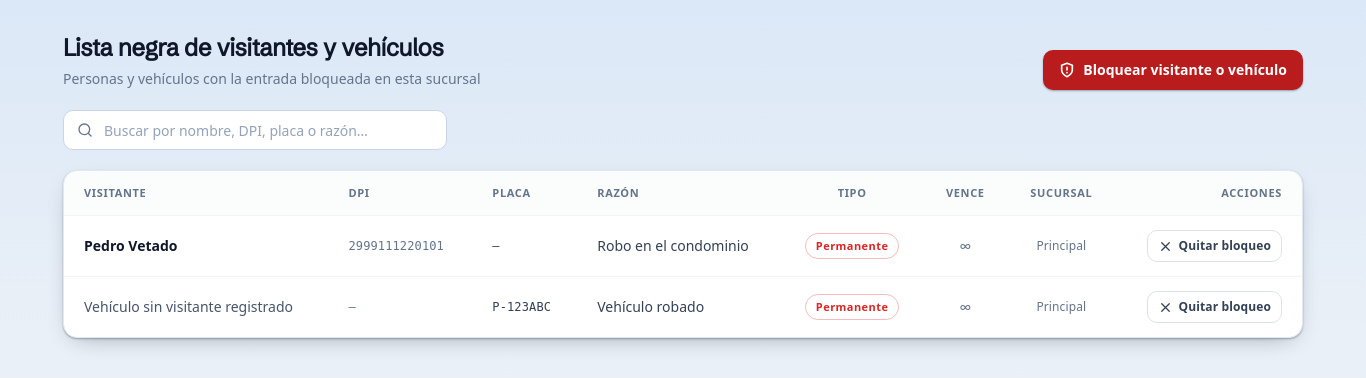
Scenario: BlacklistPage — lista negra por DPI y por placa › el buscador filtra también por placa en cualquier formato
Expected: the text "Pedro Vetado" is shown, [64, 216, 328, 276]
Step 1. Type "p-123 abc" into the field labelled "Buscar" → point(255, 130), box [63, 110, 447, 150]
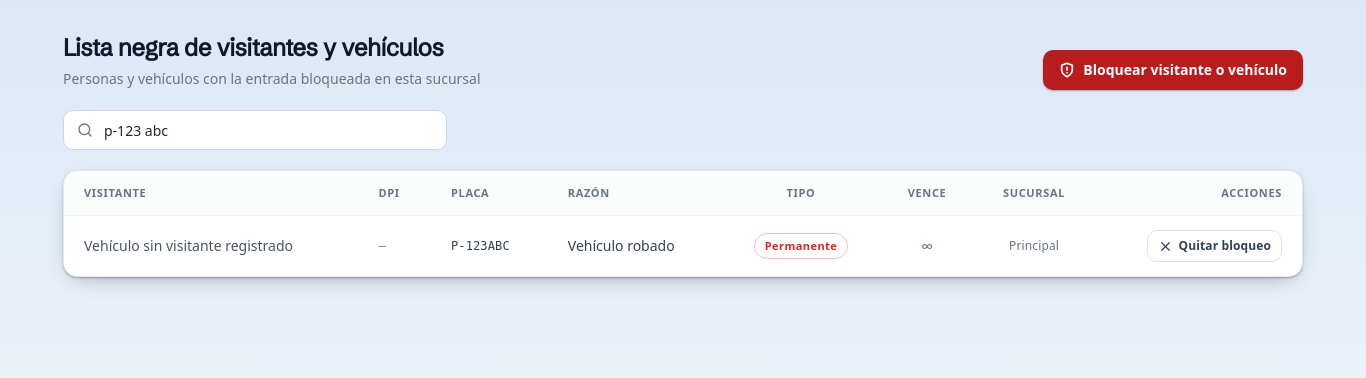
Expected: the text "Vehículo robado" is shown, [568, 236, 675, 255]
Expected: the text "Pedro Vetado" is gone
